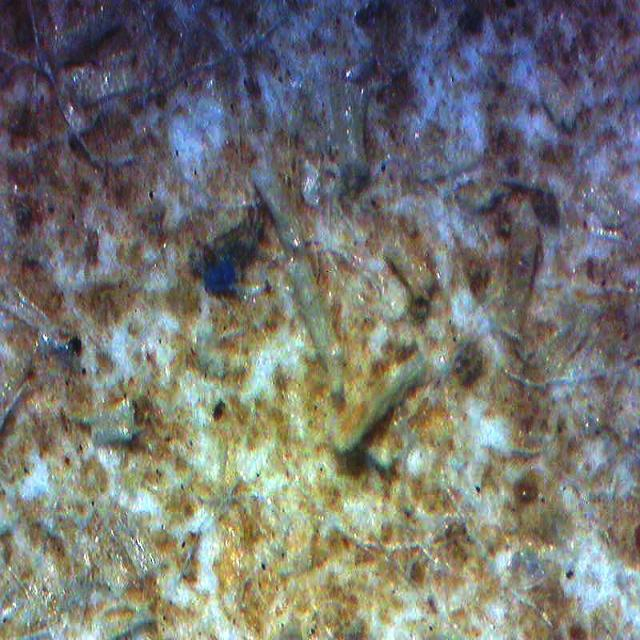microplastic: (204, 262, 235, 294)
